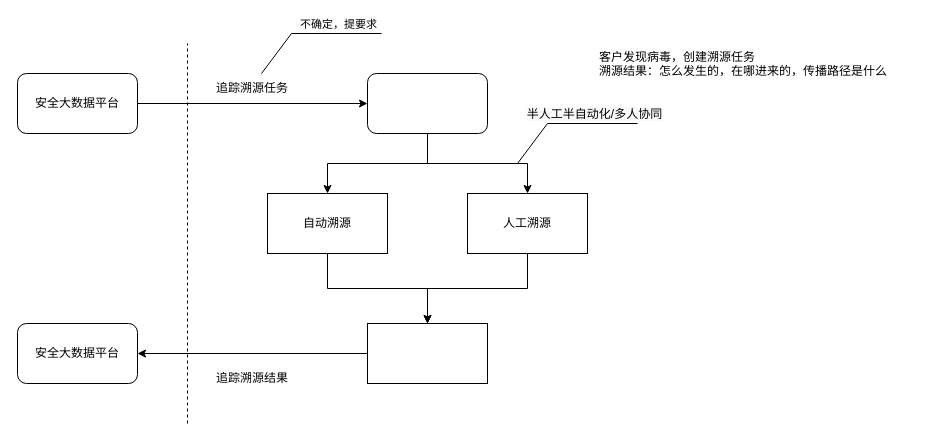
The diagram is 945 pixels wide and 442 high, and some of its shapes have lost their labels. The shapes that lost their labels are listed below. From the top down, each one's box as (x1, y1, x2, y2) in pixels, then its label:
(366, 72, 488, 134): ZZSY
(366, 322, 488, 384): 溯源结果输出
